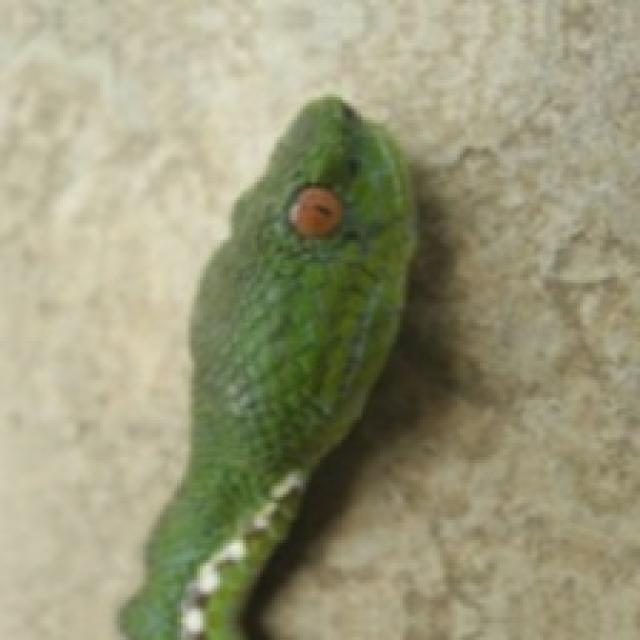philippine pitviper: (123, 97, 414, 637)
